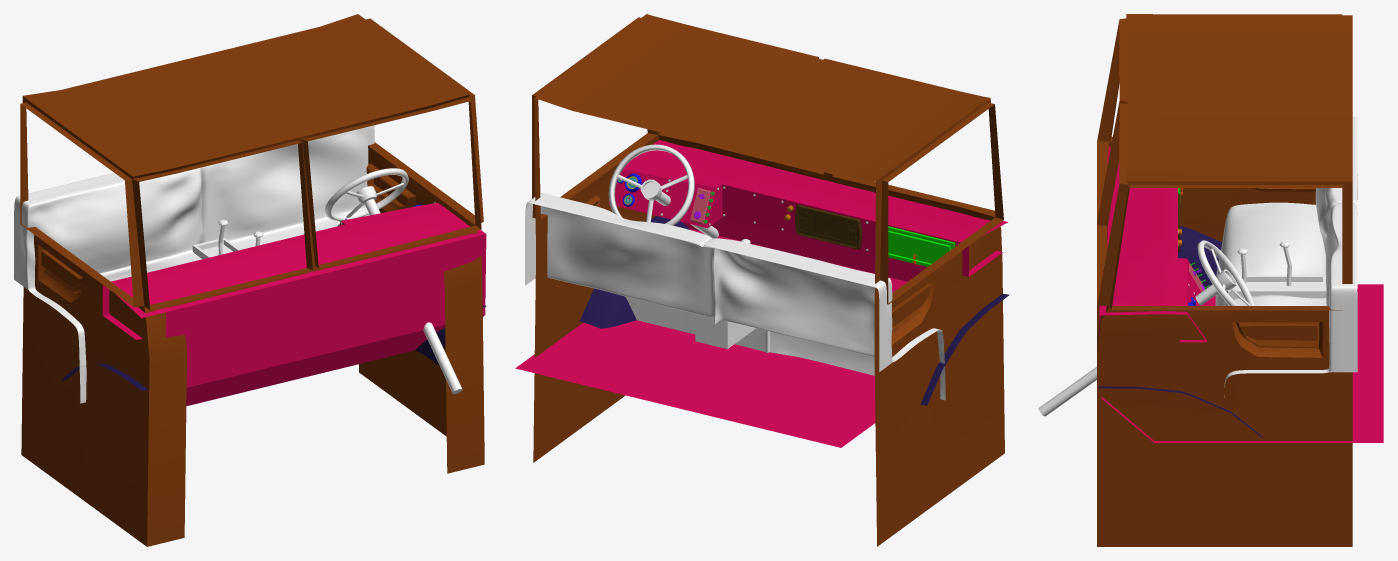
Rendered from hipoli substance inside bits.fbx.
3 renders of one model, left to right at view 1: azimuth 30°, elevation 25°; view 2: azimuth 150°, elevation 25°; view 3: azimuth 270°, elevation 25°, orthographic.
Parts seen in each view (by area): view 1: cabbin inside walls hipoli, dash floor hipoli, seats_hipoli_zbrashj, wheel n sticks hipoli; view 2: cabbin inside walls hipoli, dash floor hipoli, seats_hipoli_zbrashj, wheel n sticks hipoli; view 3: cabbin inside walls hipoli, dash floor hipoli, seats_hipoli_zbrashj, wheel n sticks hipoli.
Boxes of the visible parts, box(x1,y1,x2,y2) form: cabbin inside walls hipoli: box(20, 14, 484, 546); dash floor hipoli: box(60, 202, 486, 406); seats_hipoli_zbrashj: box(14, 125, 374, 403); wheel n sticks hipoli: box(192, 168, 462, 394); cabbin inside walls hipoli: box(532, 14, 1004, 546); dash floor hipoli: box(515, 140, 1009, 447); seats_hipoli_zbrashj: box(525, 193, 945, 400); wheel n sticks hipoli: box(608, 144, 755, 348); cabbin inside walls hipoli: box(1097, 14, 1352, 546); dash floor hipoli: box(1098, 147, 1383, 442); seats_hipoli_zbrashj: box(1215, 117, 1357, 397); wheel n sticks hipoli: box(1038, 240, 1326, 416).
Bounding box in the file's own units: 366 × 359 × 307.
